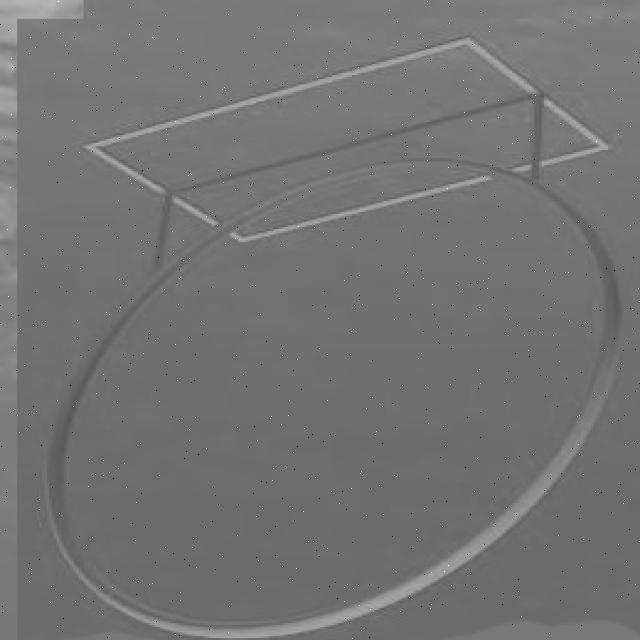Circle: (38, 156, 636, 640)
